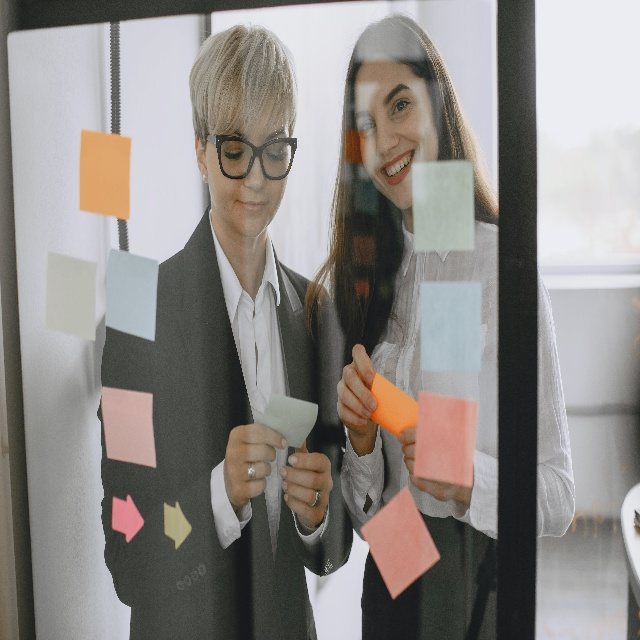Gafas: (215, 133, 298, 184)
Sin_guantes: (223, 422, 288, 506), (399, 423, 461, 496), (279, 442, 334, 521), (336, 339, 378, 432)
